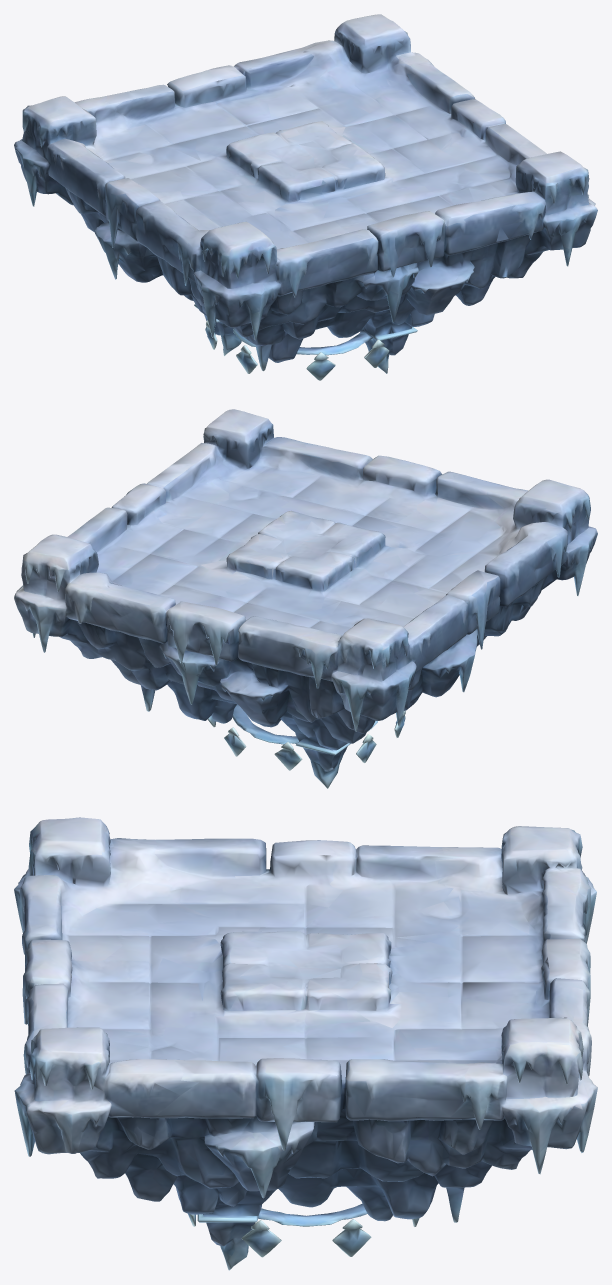
File: R2_Island_Ferry.fbx
3 renders of one model, top to bottom at view 1: azimuth 30°, elevation 25°; view 2: azimuth 150°, elevation 25°; view 3: azimuth 270°, elevation 25°, orthographic. The views are drawn at different scales.
Visible parts, largest first — view 1: R2_Island_Ferry; view 2: R2_Island_Ferry; view 3: R2_Island_Ferry.
Part boxes in pixels (bbox=[...]): R2_Island_Ferry: bbox=[14, 14, 597, 380]; R2_Island_Ferry: bbox=[14, 409, 597, 788]; R2_Island_Ferry: bbox=[14, 817, 597, 1270].
Size of the model in its own units: 600 by 350 by 600.
Materials: 1 (1 with a texture image).
